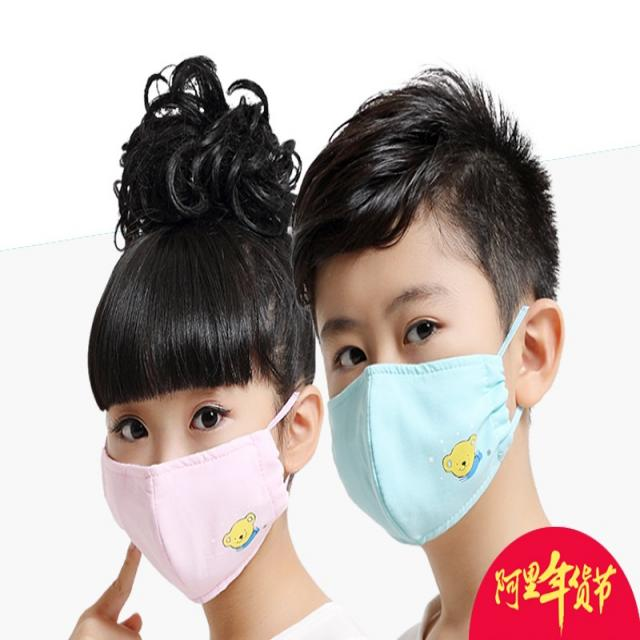mask: (320, 250, 508, 546), (101, 374, 288, 612)
